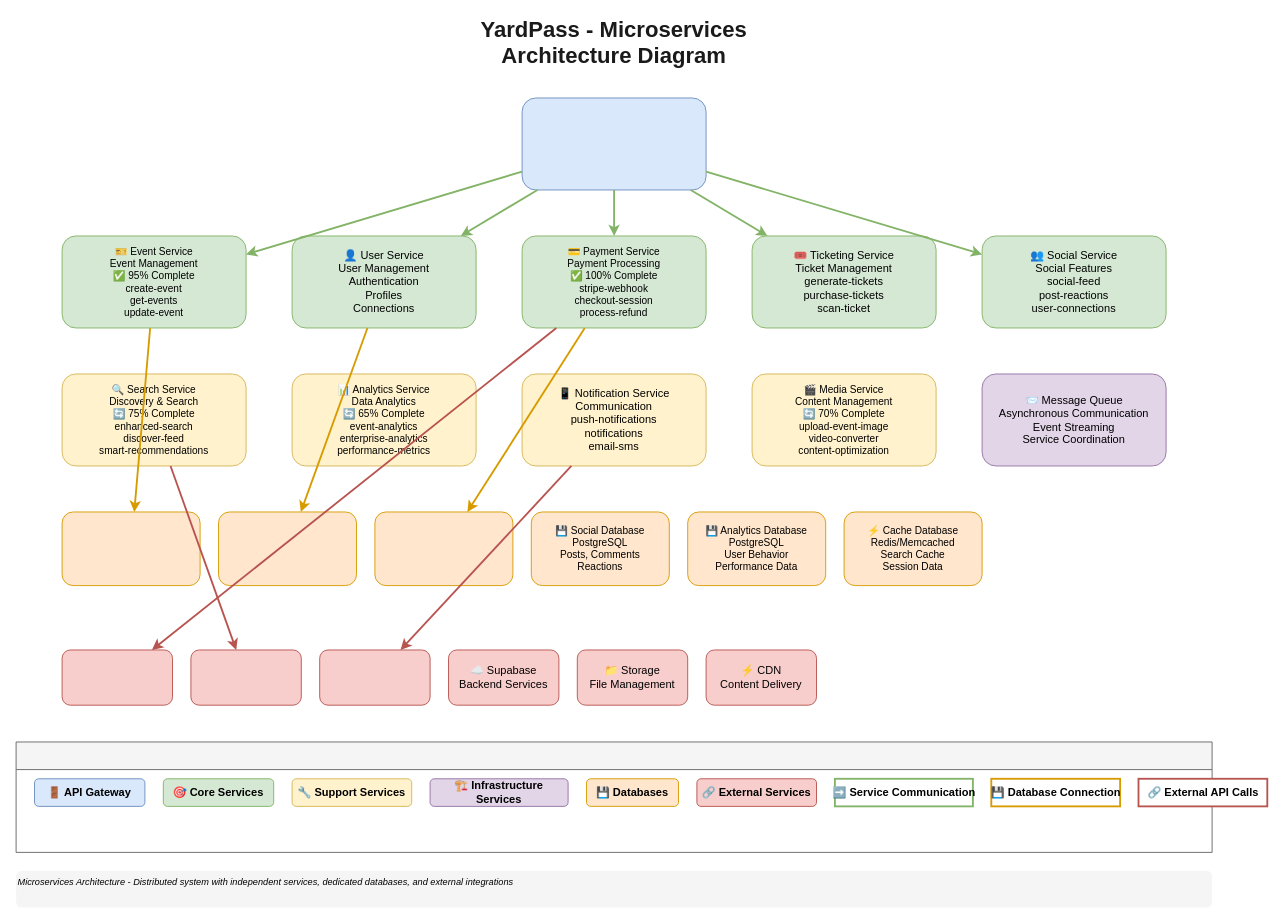
Image size: 1284x923. Some labels were removed from this diagram. Here are the shapes that lost their labels. From the top down, the box of each, then its label:
(521, 97, 706, 190): 🚪 API Gateway Request Routing Authentication Rate Limiting
(61, 511, 200, 586): 💾 Event Database PostgreSQL Events, Tickets Orders, Analytics
(218, 511, 356, 586): 💾 User Database PostgreSQL Users, Profiles Connections
(374, 511, 513, 586): 💾 Payment Database PostgreSQL Stripe Data Transactions
(61, 649, 172, 705): 💳 Stripe Payment Processing
(190, 649, 301, 705): 🗺️ Mapbox Maps & Location
(319, 649, 430, 705): 📱 Expo Push Notifications
(15, 741, 1212, 852): Microservices Architecture Legend
